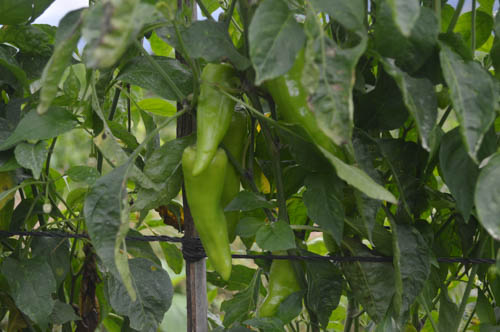ChiliPepper: (178, 147, 233, 280), (193, 62, 243, 179), (259, 252, 302, 318), (217, 162, 241, 244)
